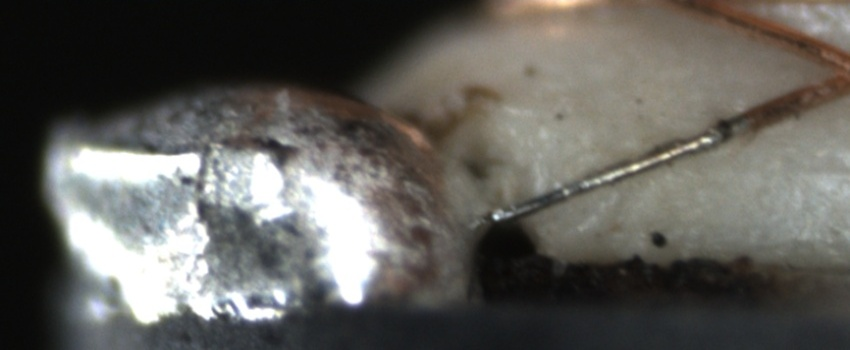DL: (687, 147, 850, 200)
TS: (492, 116, 751, 226)
